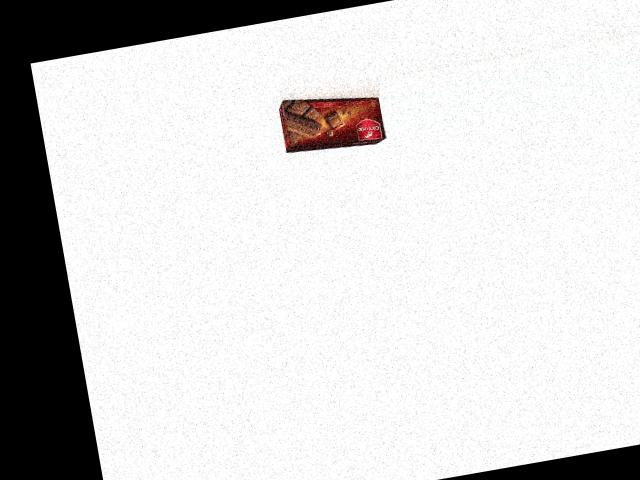chocolate: (278, 82, 387, 160)
